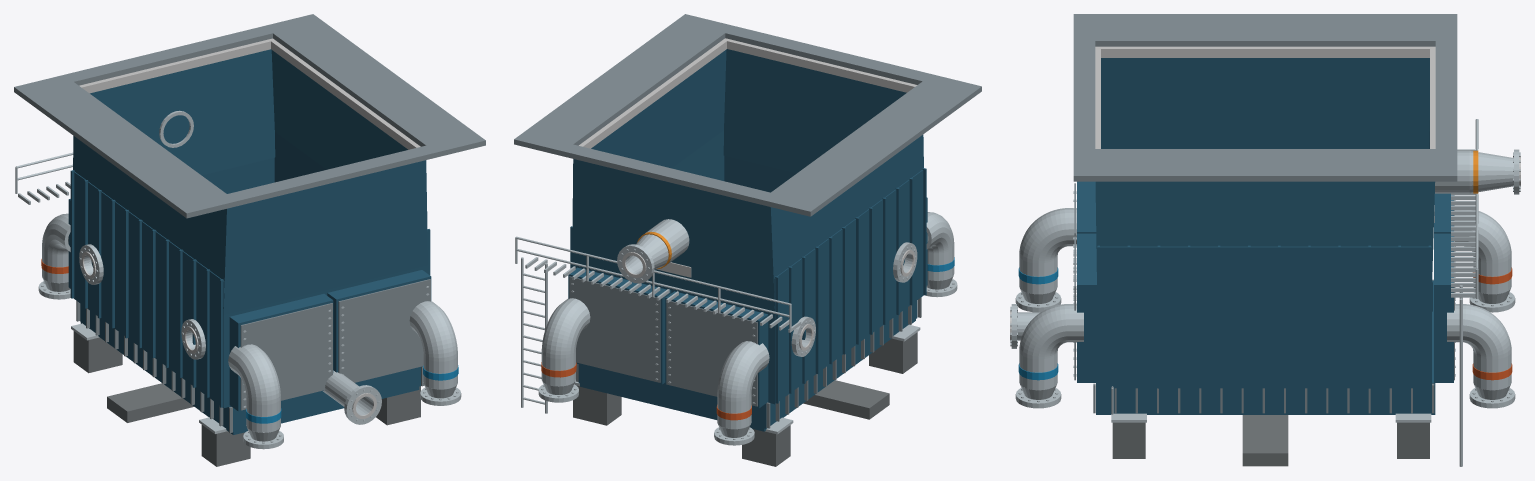
File: compact.obj
The picture shows the model from 3 angles, left to right: view 1: azimuth 30°, elevation 25°; view 2: azimuth 150°, elevation 25°; view 3: azimuth 270°, elevation 25°; orthographic projection. The views are drawn at different scales.
Size of the model in its own units: 0.676 by 0.6 by 0.9.
